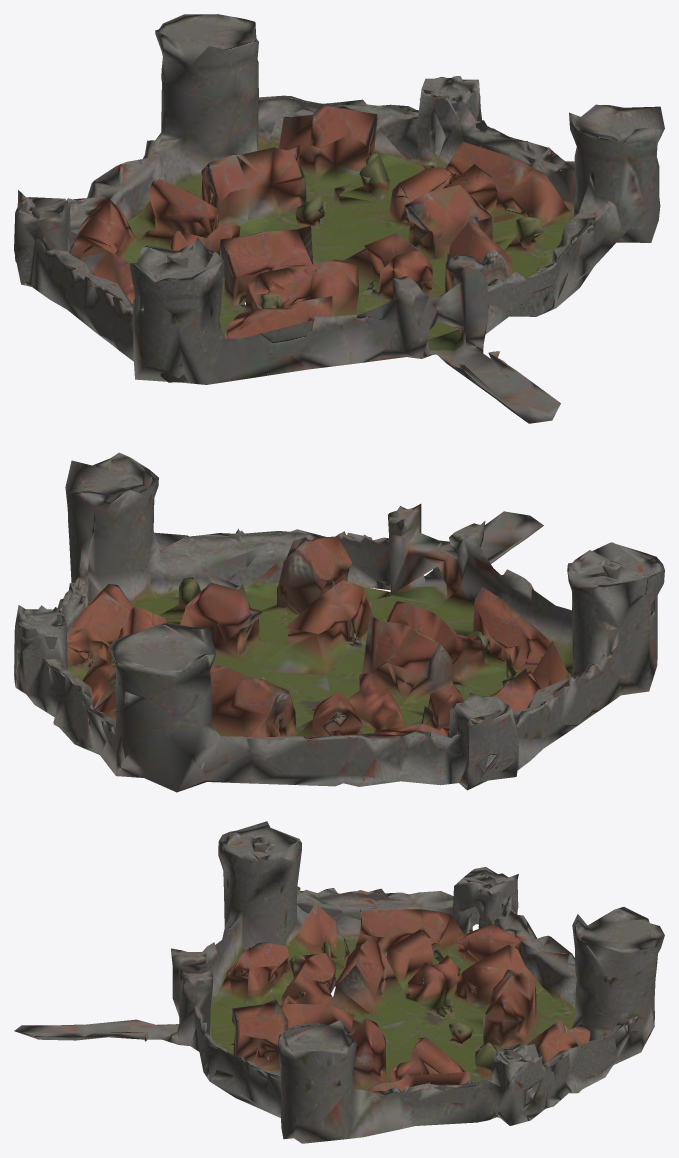
File: m_gotland.glb
3 renders of one model, top to bottom at view 1: azimuth 30°, elevation 25°; view 2: azimuth 150°, elevation 25°; view 3: azimuth 270°, elevation 25°, orthographic. The views are drawn at different scales.
Bounding box in the file's own units: 0.8378 × 0.1953 × 0.9984.
1 material, 1 textured.
